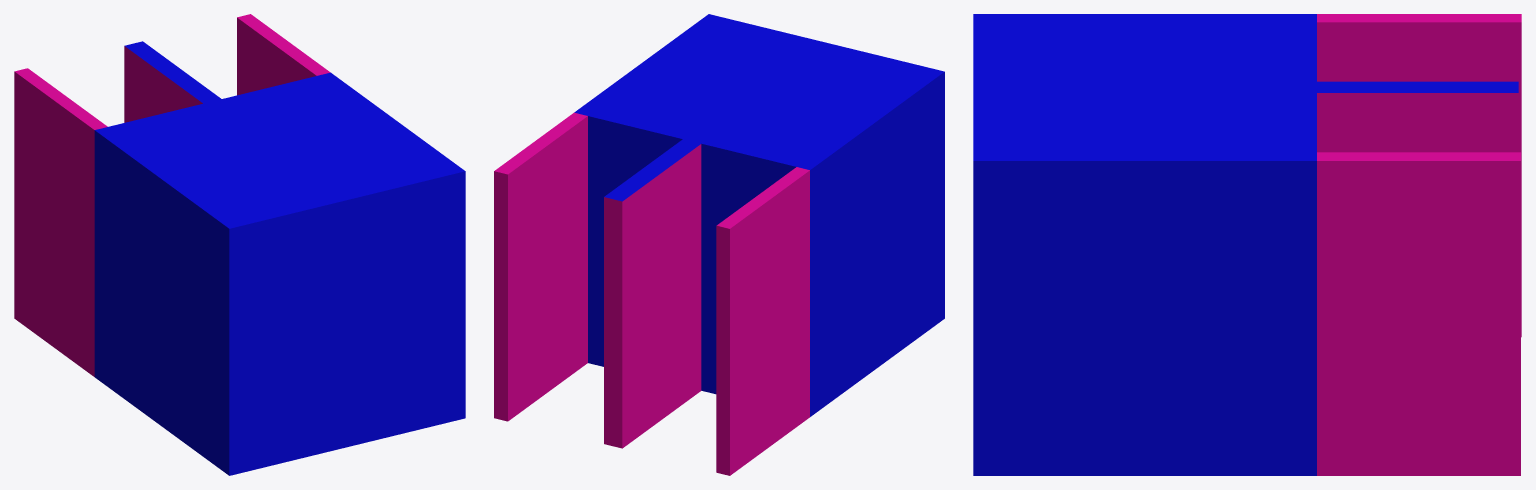
The model's file is TuileTunnel01.fbx.
3 renders of one model, left to right at view 1: azimuth 30°, elevation 25°; view 2: azimuth 150°, elevation 25°; view 3: azimuth 270°, elevation 25°, orthographic. The views are drawn at different scales.
Parts seen in each view (by area): view 1: 0,1 tunnel; view 2: 0,1 tunnel; view 3: 0,1 tunnel.
Boxes of the visible parts, x1,y1,x2,y2 form: 0,1 tunnel: (14,14,465,475); 0,1 tunnel: (494,14,944,475); 0,1 tunnel: (973,14,1521,475).
Bounding box in the file's own units: 100 × 100 × 158.
